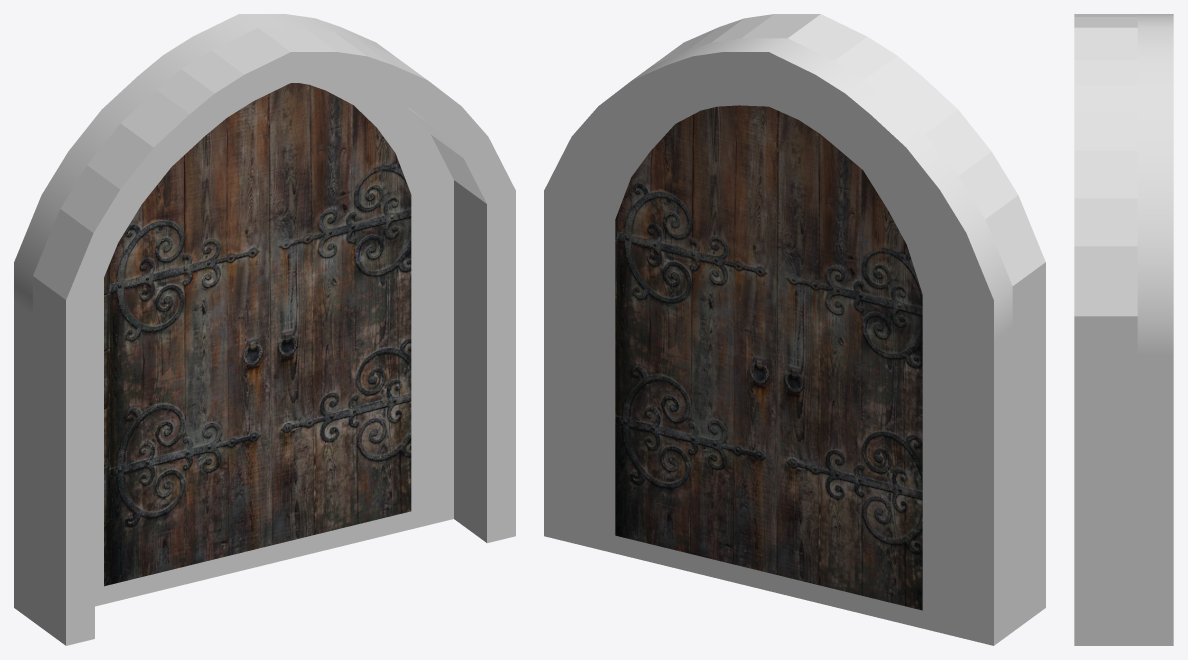
The model's file is Door2.fbx.
3 renders of one model, left to right at view 1: azimuth 30°, elevation 25°; view 2: azimuth 150°, elevation 25°; view 3: azimuth 270°, elevation 25°, orthographic. The views are drawn at different scales.
Parts seen in each view (by area): view 1: Object, Box006; view 2: Object, Box006; view 3: Box006.
Part boxes in pixels (<box>): Object: <box>104,83,411,586</box>; Box006: <box>14,14,515,645</box>; Object: <box>615,105,922,610</box>; Box006: <box>544,14,1045,645</box>; Box006: <box>1074,14,1173,645</box>.
Size of the model in its own units: 78.25 by 15.67 by 89.63.
